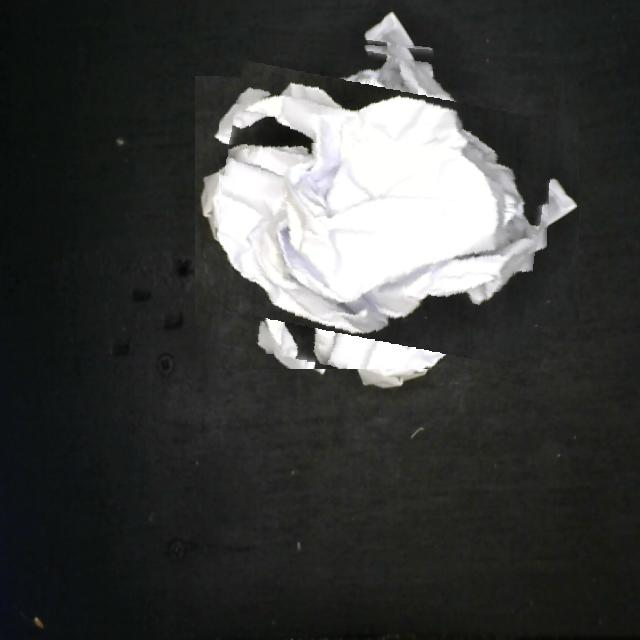biodegradable: (219, 34, 555, 369)
